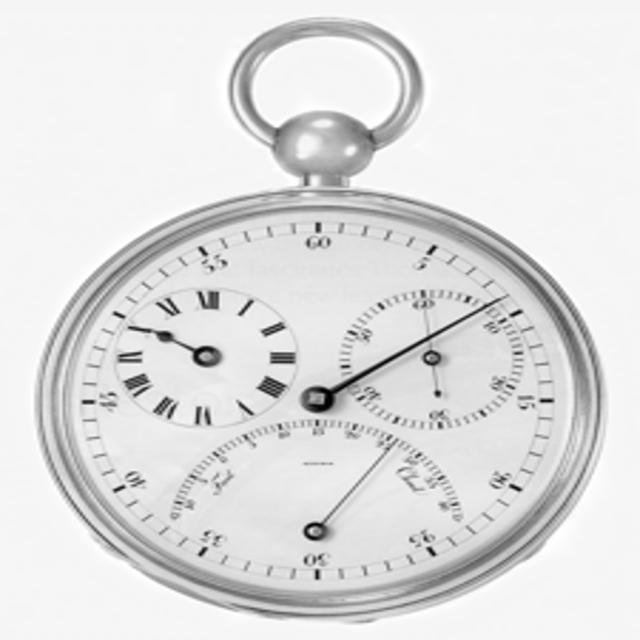number_60: (282, 218, 353, 259)
